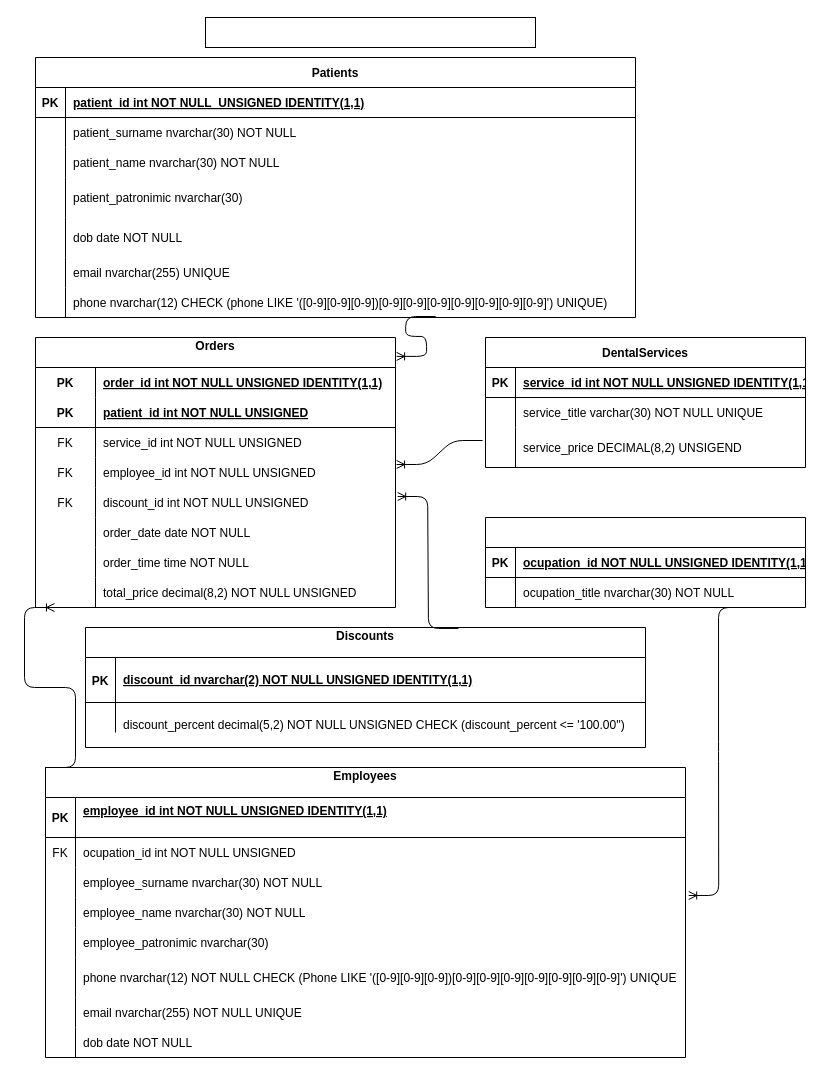
Some shapes in this 829 by 1075 pixel diagram are drawn without their labels. Here are the shapes that lost their labels. From the top down, the box of each, then its label:
(204, 16, 536, 48): Dental Clinics
(484, 516, 806, 608): Ocupations
